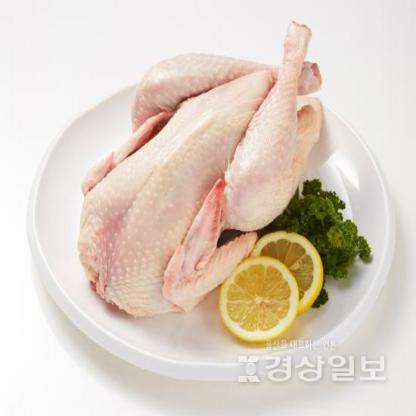chicken: (70, 16, 324, 320)
